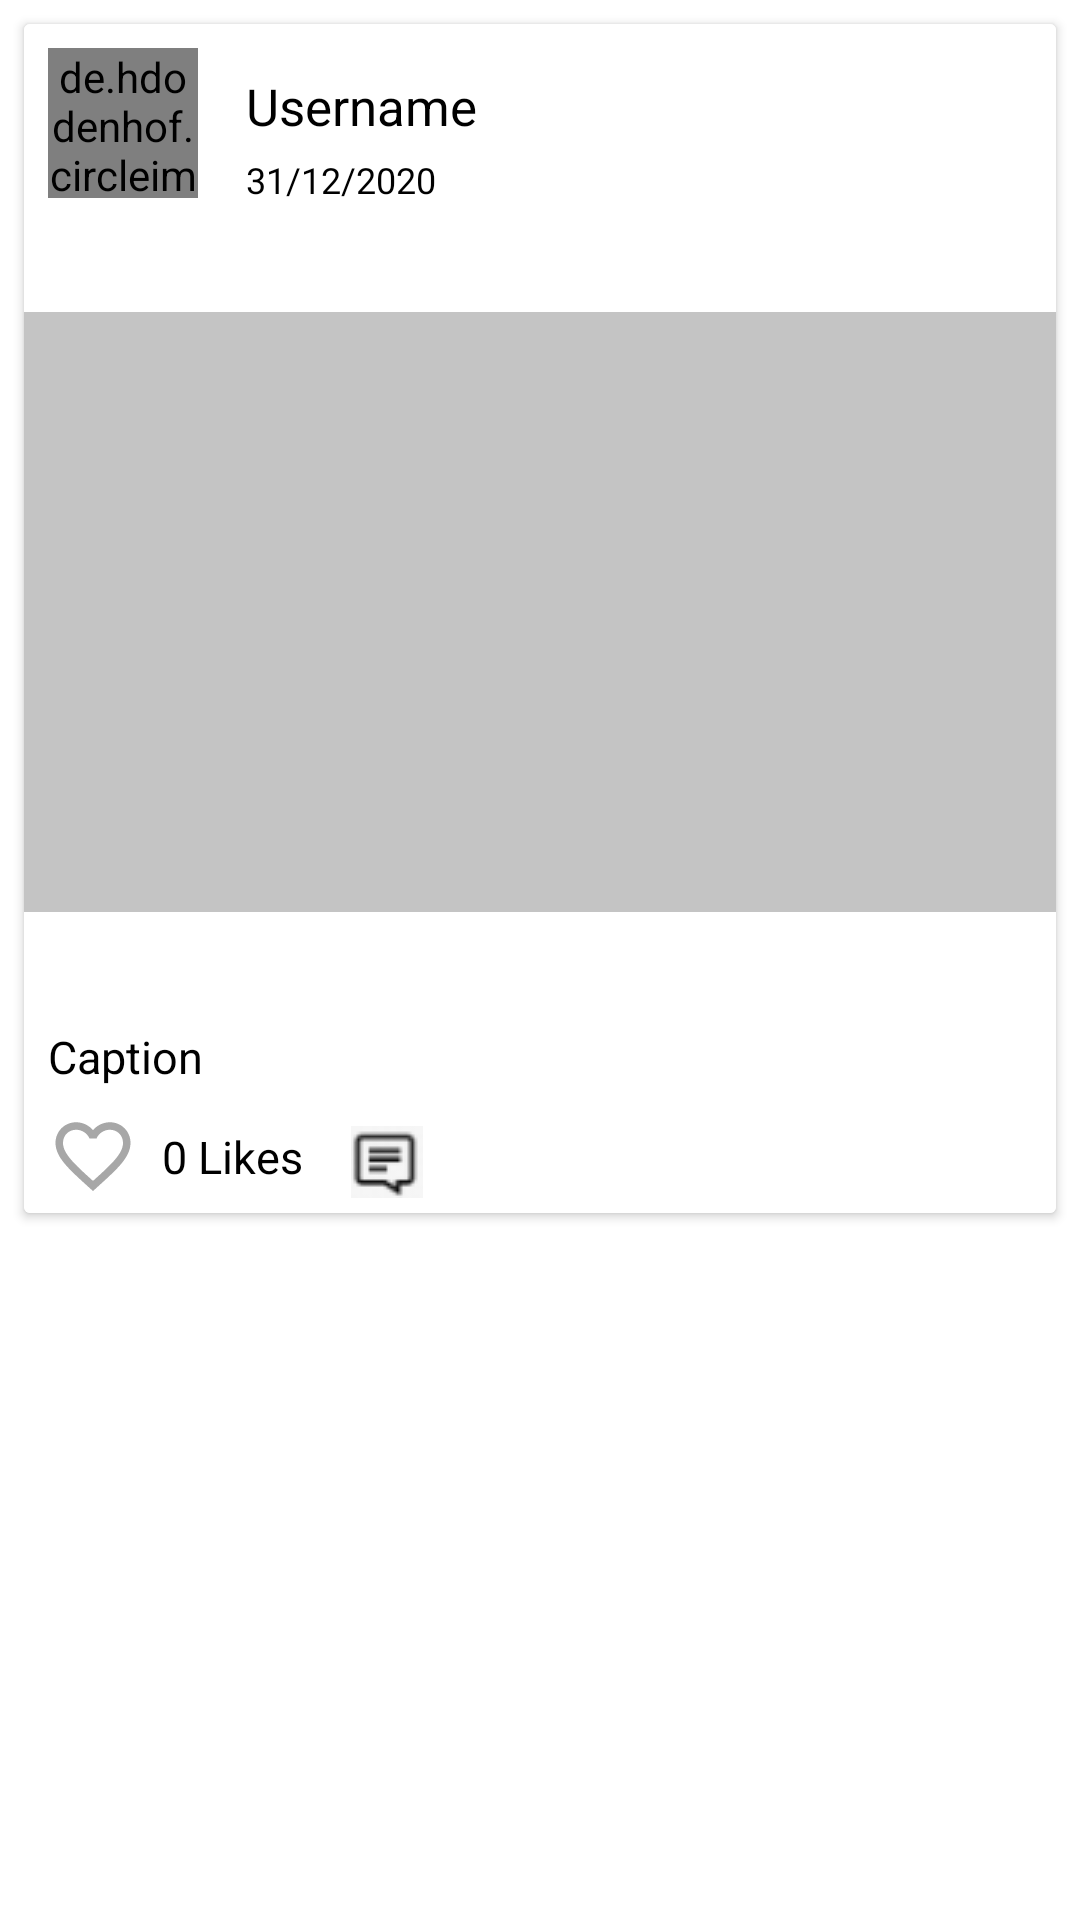

Screen size 1080 × 1920. Icon name, then its center in pixels as point (x, y):
before liked: point (93, 1156)
comments: point (385, 1163)
